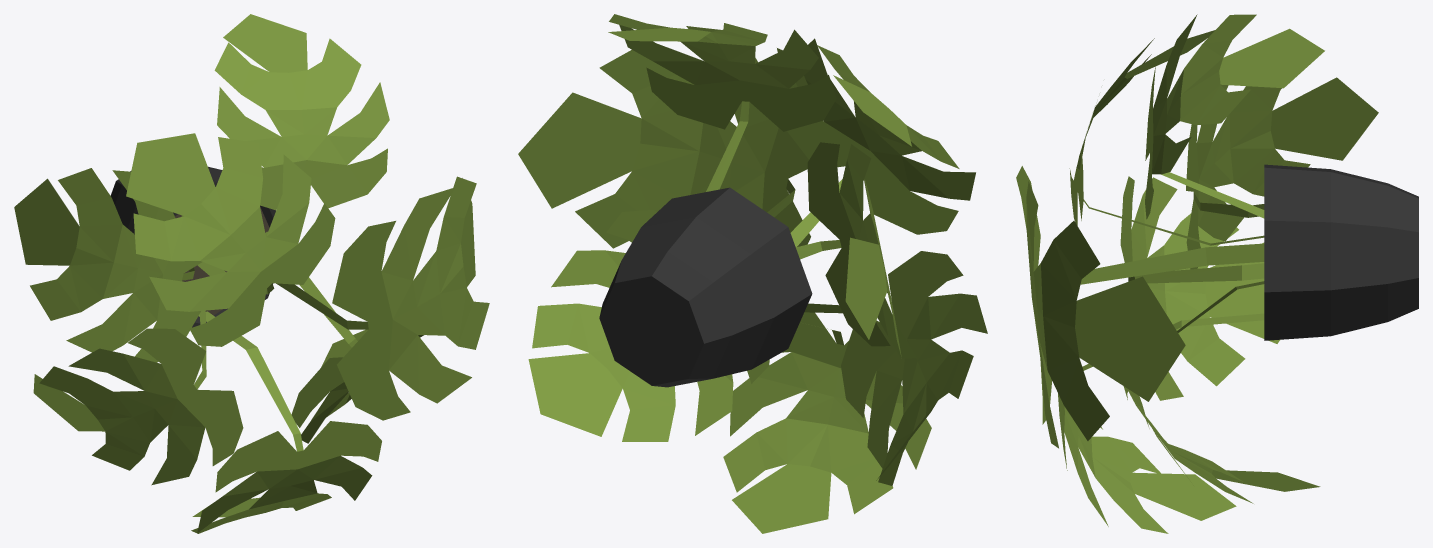
File: houseplant-7.obj
The picture shows the model from 3 angles, left to right: view 1: azimuth 30°, elevation 25°; view 2: azimuth 150°, elevation 25°; view 3: azimuth 270°, elevation 25°; orthographic projection. The views are drawn at different scales.
Visible parts, largest first — view 1: houseplant-7; view 2: houseplant-7; view 3: houseplant-7.
Part boxes in pixels (<box>): houseplant-7: <box>14,14,489,533</box>; houseplant-7: <box>518,14,987,533</box>; houseplant-7: <box>1016,14,1418,533</box>.
Bounding box in the file's own units: 87.28 × 91.31 × 66.
